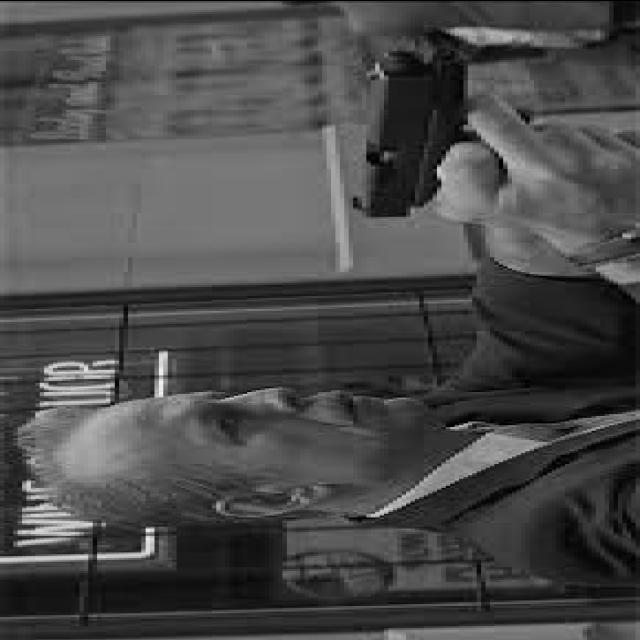weapons: (250, 21, 612, 250)
